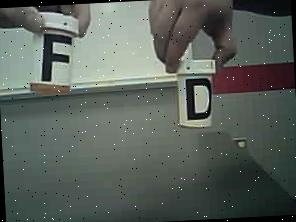Bottle D: (173, 56, 224, 134)
Bottle F: (28, 3, 86, 102)
